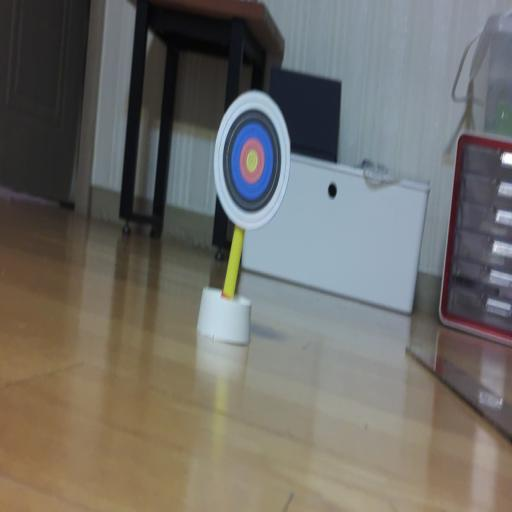target: (214, 91, 290, 230)
